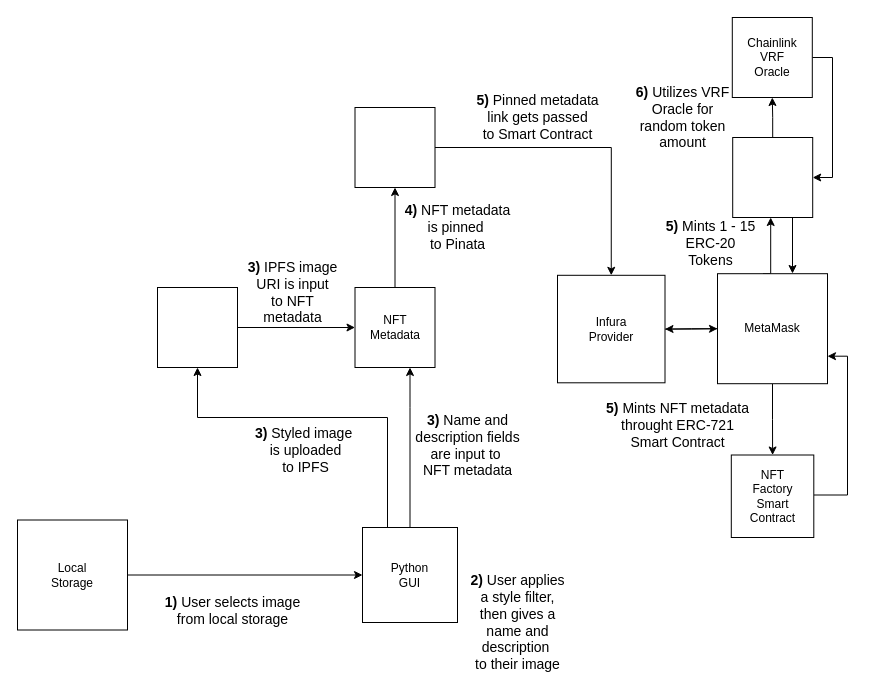
This 873x695 diagram has some shape labels left out. The shapes that lost their labels are listed below. From the top down, each one's centre as x and y in pixels, then its label:
At pixel 394 147: "Pinata".
At pixel 772 177: "ERC-20 Smart Contract".
At pixel 197 327: "IPFS server".
